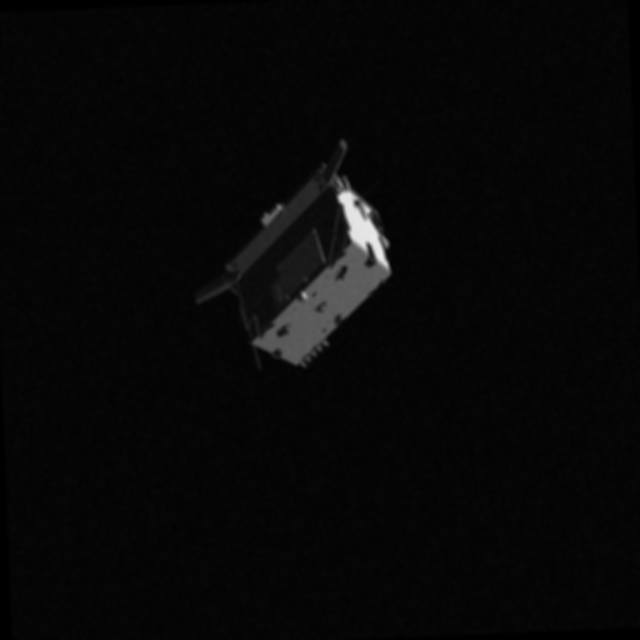medium_debris: (172, 137, 398, 391)
